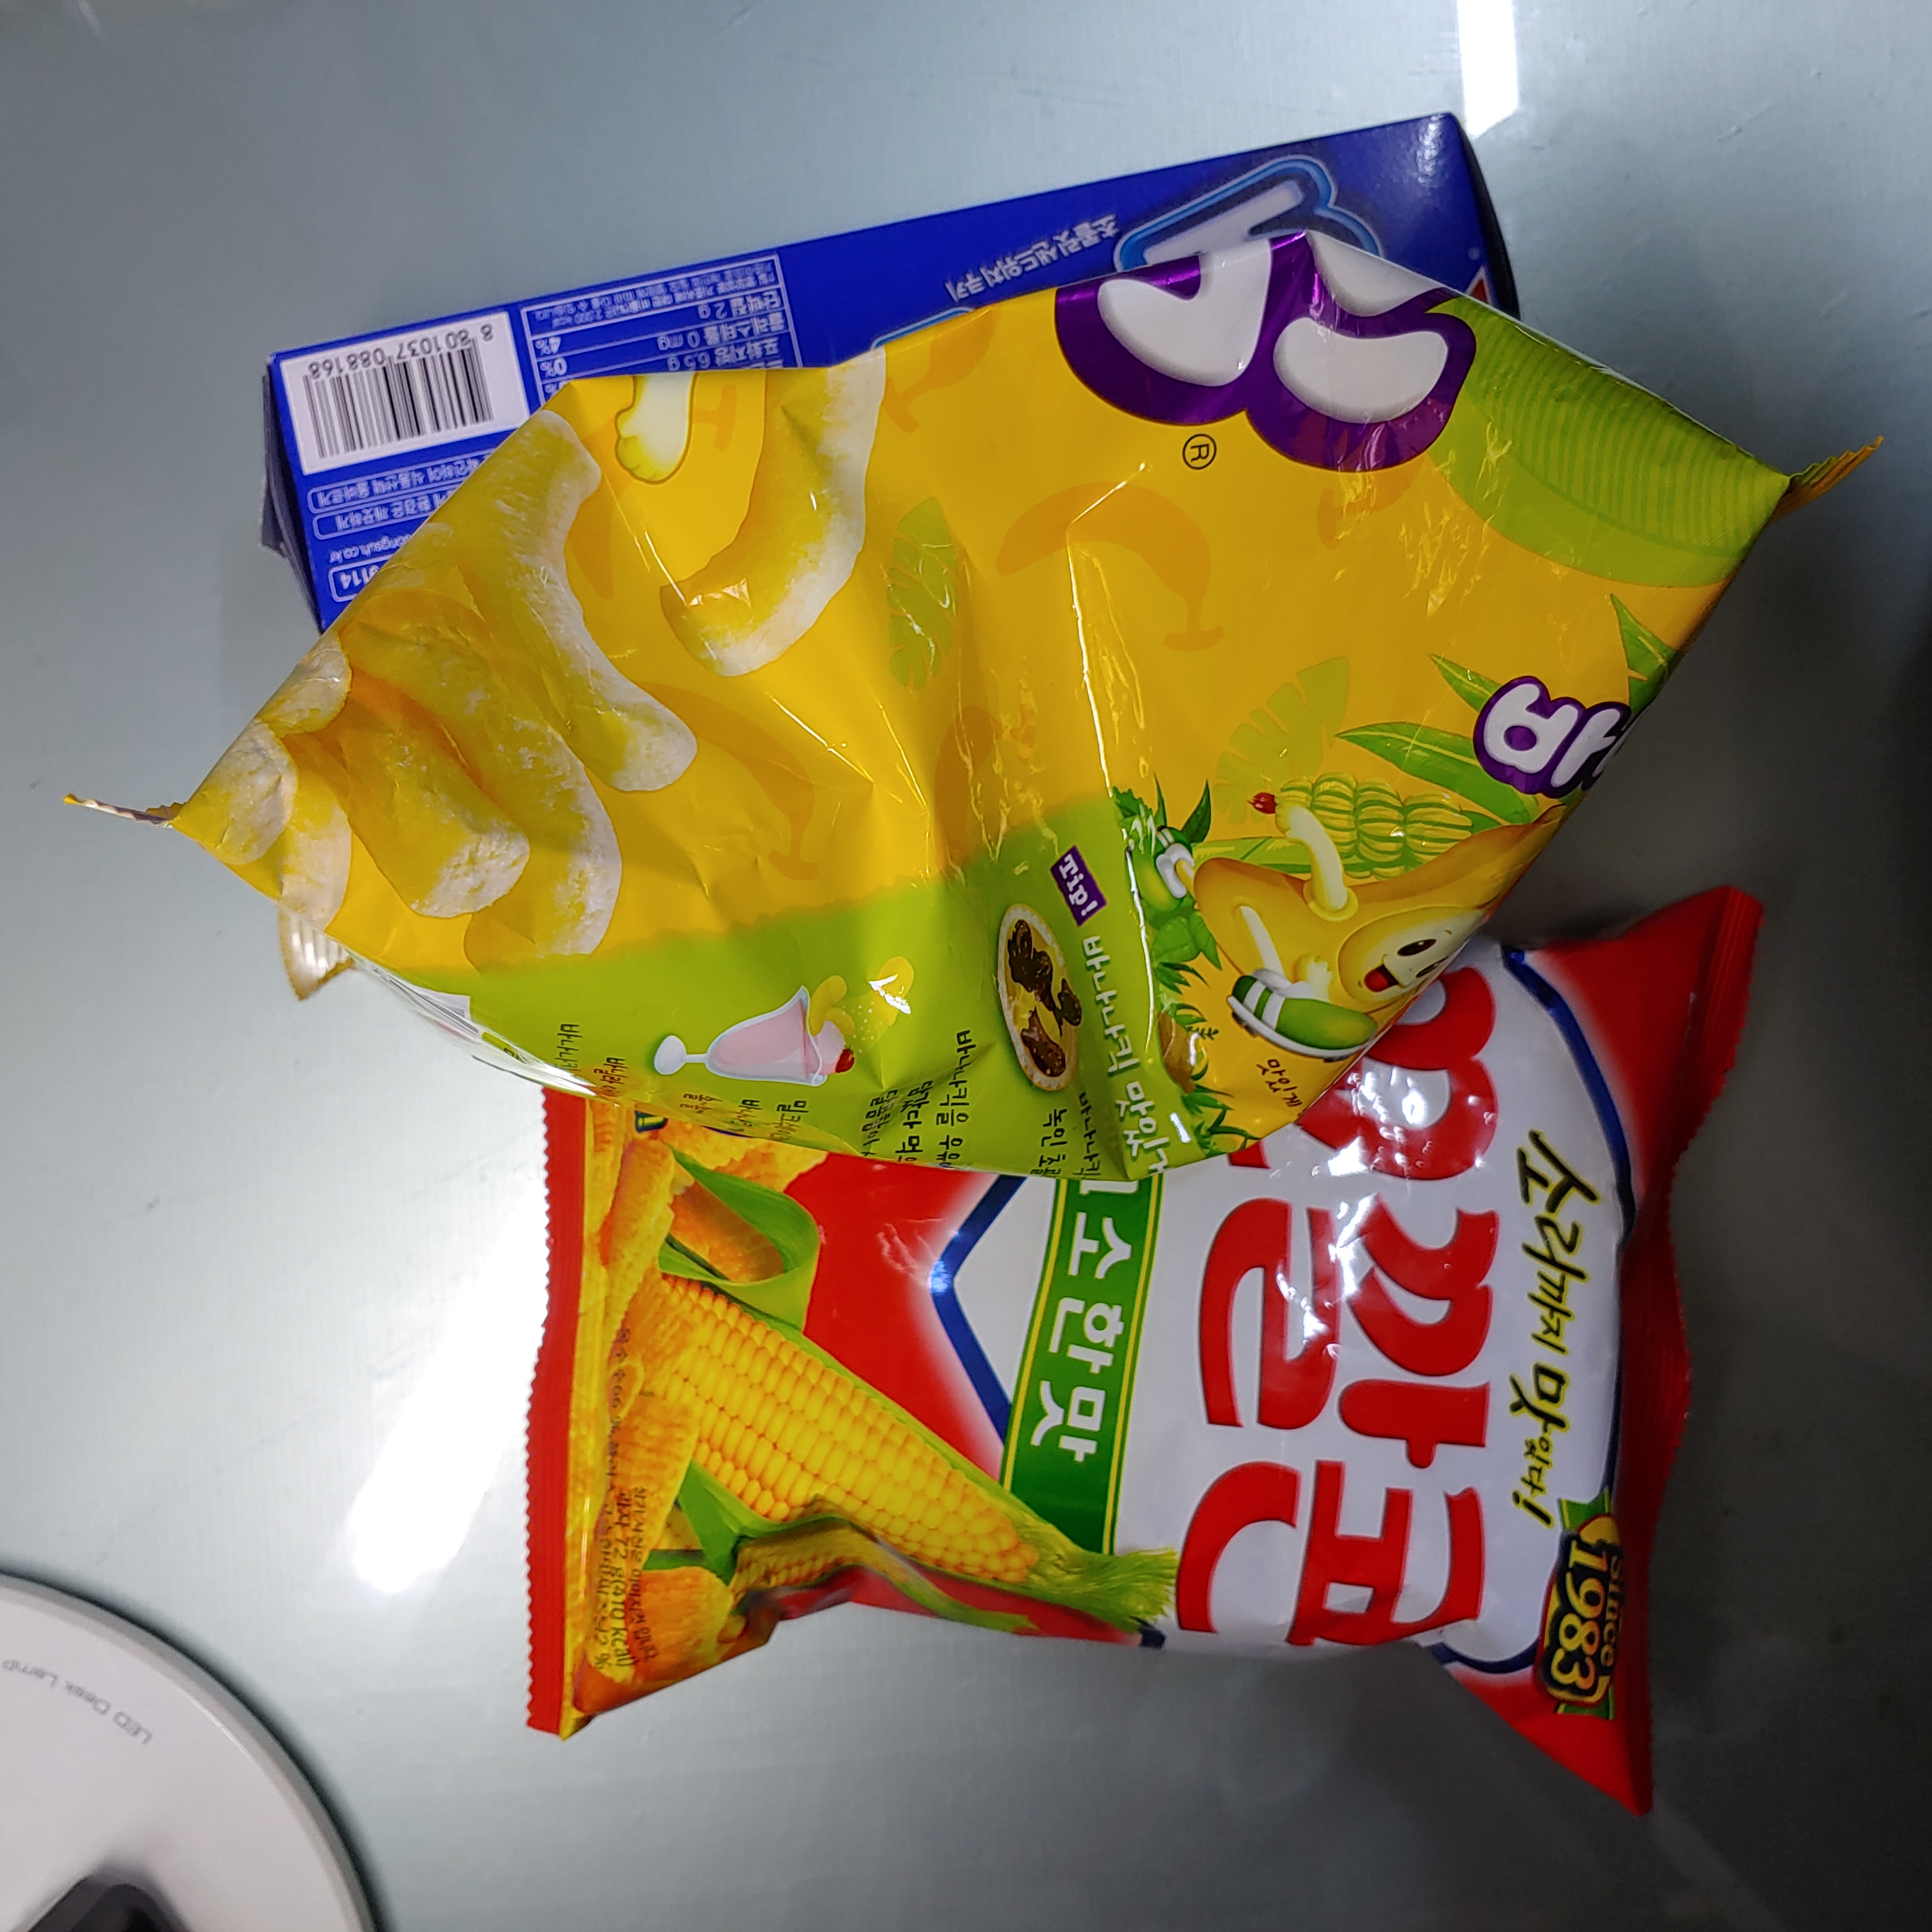banana: (23, 127, 1932, 1267)
ggoggalcon: (472, 840, 1847, 1932)
oreo: (173, 19, 1589, 653)
